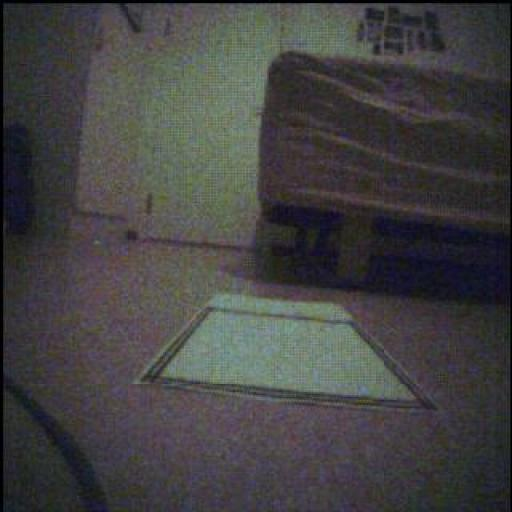pad: (137, 295, 436, 409)
